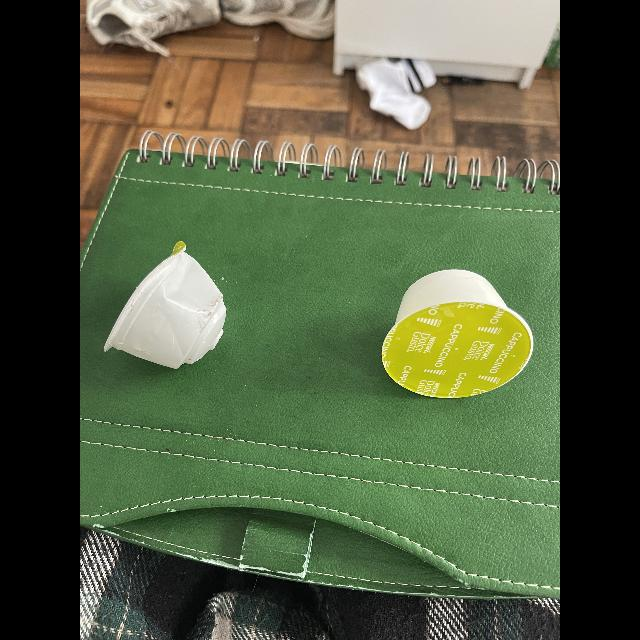damaged_capsule: (107, 236, 239, 380)
intact_capsule: (368, 261, 550, 399)
